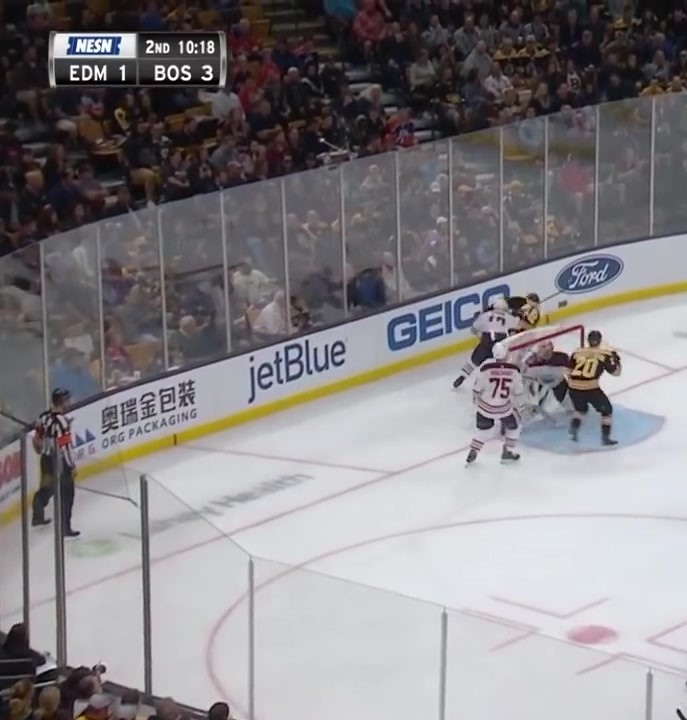Geico: (371, 279, 527, 357)
